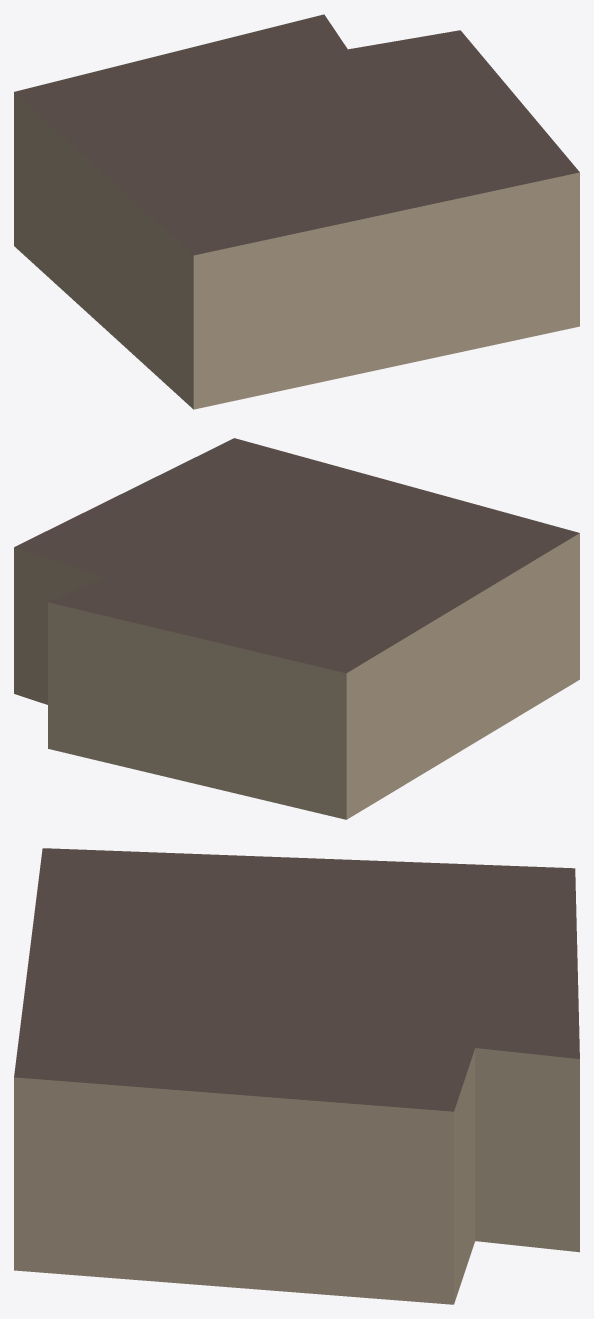
3 views of the same model, one above another, from view 1: azimuth 30°, elevation 25°; view 2: azimuth 150°, elevation 25°; view 3: azimuth 270°, elevation 25° (orthographic). The views are drawn at different scales.
Visible parts, largest first — view 1: HP-w1512965881; view 2: HP-w1512965881; view 3: HP-w1512965881.
Part boxes in pixels (x1,y1,x2,y2): HP-w1512965881: (14,14,579,409); HP-w1512965881: (14,438,579,819); HP-w1512965881: (14,848,579,1304).
Size of the model in its own units: 26.34 by 9 by 23.9.
